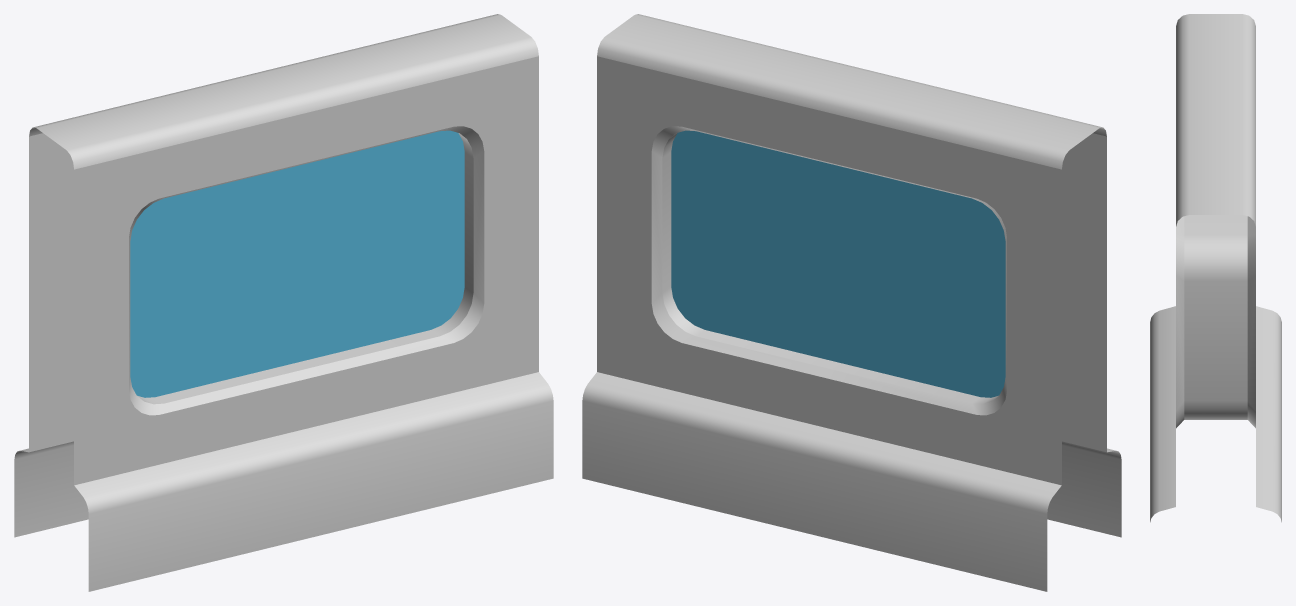
File: Wall_2_2.fbx
The picture shows the model from 3 angles, left to right: view 1: azimuth 30°, elevation 25°; view 2: azimuth 150°, elevation 25°; view 3: azimuth 270°, elevation 25°; orthographic projection. The views are drawn at different scales.
Parts seen in each view (by area): view 1: Wall_2_2; view 2: Wall_2_2; view 3: Wall_2_2.
Part boxes in pixels (x1,y1,x2,y2): Wall_2_2: (14,14,553,591); Wall_2_2: (582,14,1121,591); Wall_2_2: (1150,14,1281,522).
Bounding box in the file's own units: 2.29 × 2 × 0.6338.
